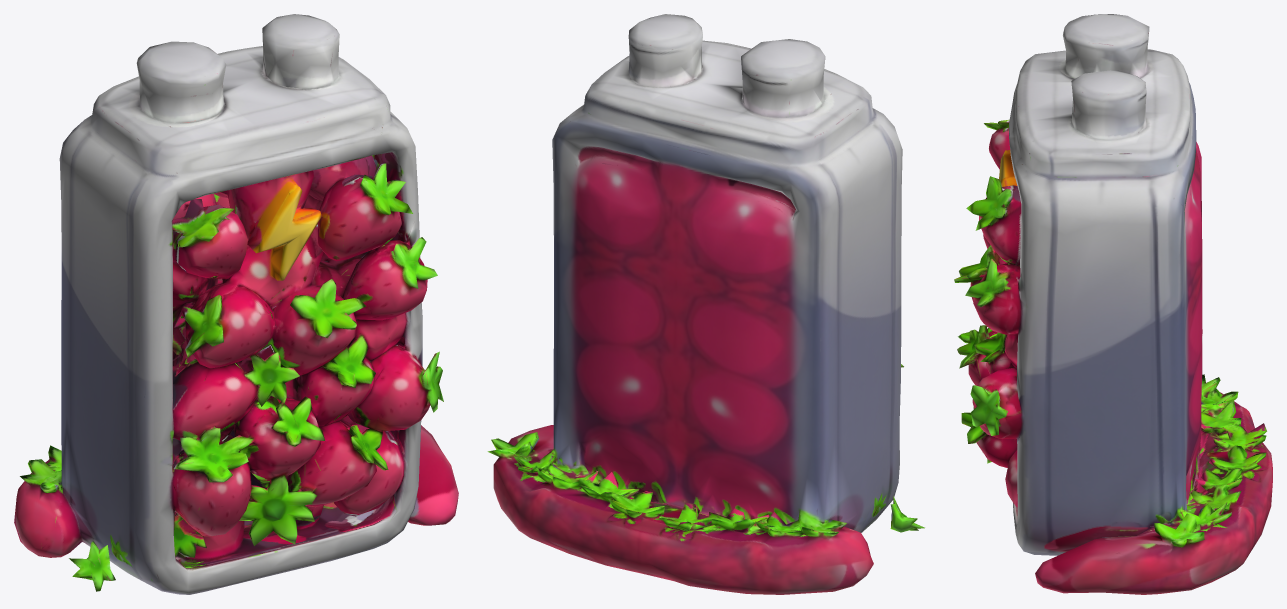
The model's file is Meshy_AI_BerryCharge_0203072927_texture.fbx.
The picture shows the model from 3 angles, left to right: view 1: azimuth 30°, elevation 25°; view 2: azimuth 150°, elevation 25°; view 3: azimuth 270°, elevation 25°; orthographic projection. The views are drawn at different scales.
Visible parts, largest first — view 1: Mesh1.0; view 2: Mesh1.0; view 3: Mesh1.0.
Boxes of the visible parts, box(x1,y1,x2,y2) form: Mesh1.0: box(14, 14, 458, 594); Mesh1.0: box(487, 14, 924, 594); Mesh1.0: box(954, 14, 1272, 594).
Bounding box in the file's own units: 159 × 191 × 121.
1 material, 1 textured.
